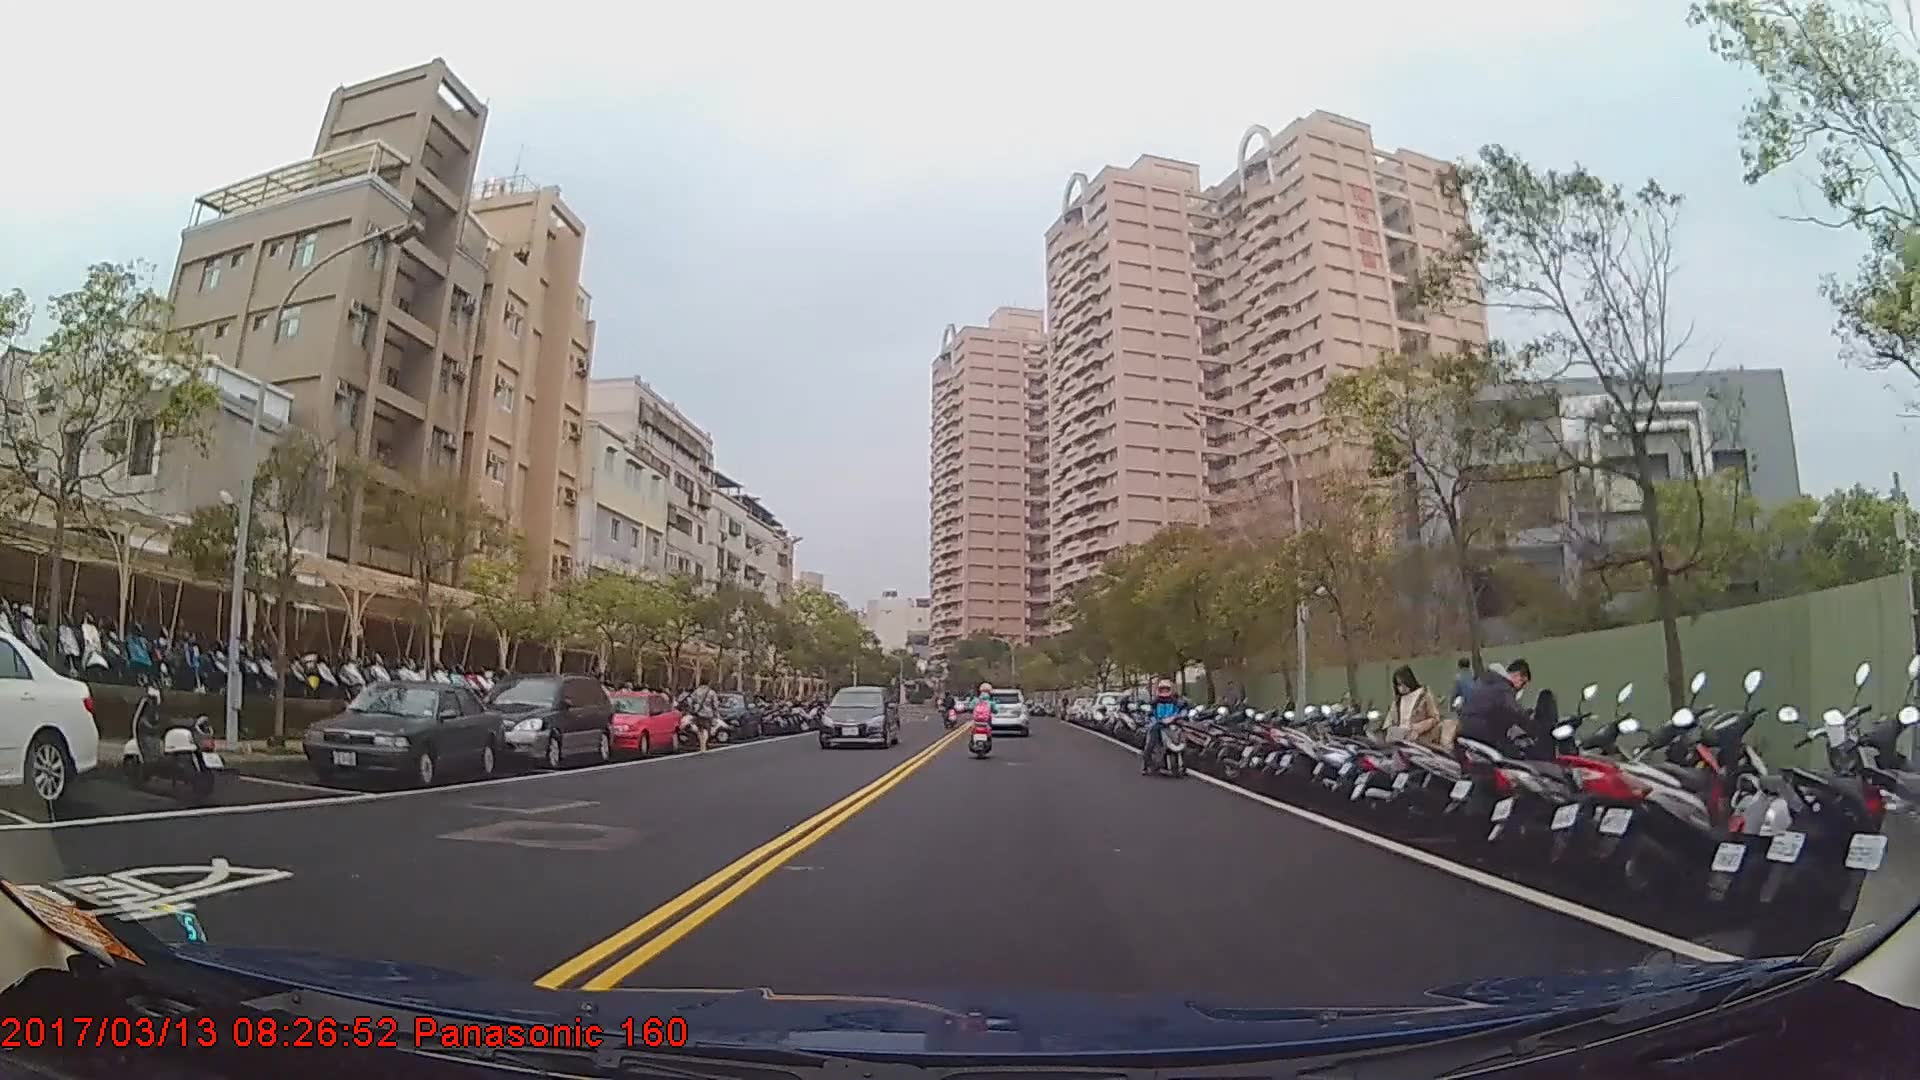pedestrian: (1455, 654, 1548, 839), (1384, 664, 1446, 822), (1457, 656, 1493, 765), (689, 678, 722, 755)
rider: (1139, 676, 1190, 776), (968, 684, 1000, 755)
vehicle: (300, 676, 500, 785), (0, 631, 99, 805), (467, 671, 612, 769), (585, 687, 683, 755), (820, 686, 900, 750), (977, 684, 1031, 738)
